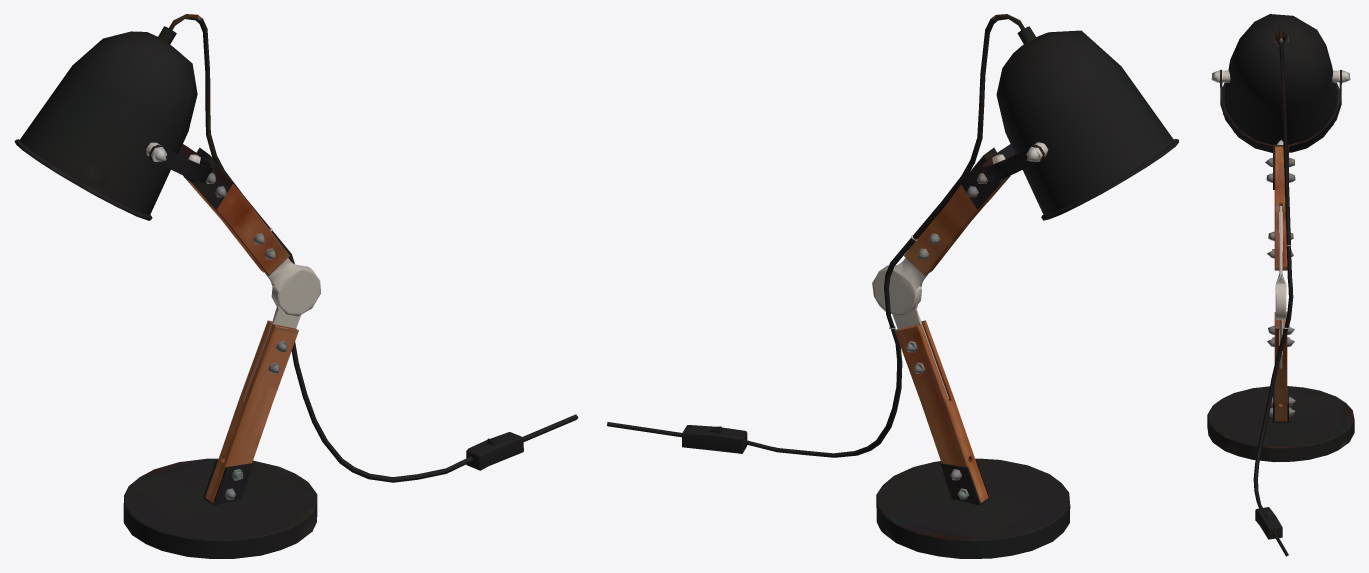
The model's file is SM_Pivot_Table_Lamp_d684bd.glb.
The picture shows the model from 3 angles, left to right: view 1: azimuth 30°, elevation 25°; view 2: azimuth 150°, elevation 25°; view 3: azimuth 270°, elevation 25°; orthographic projection. The views are drawn at different scales.
Size of the model in its own units: 0.6708 by 0.5924 by 0.204.
Materials: 2 (1 with a texture image).
